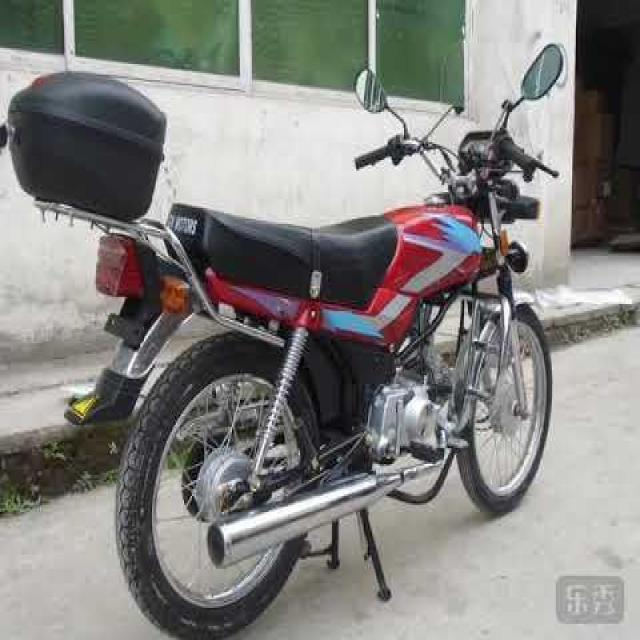motorcycle: (3, 23, 597, 640)
